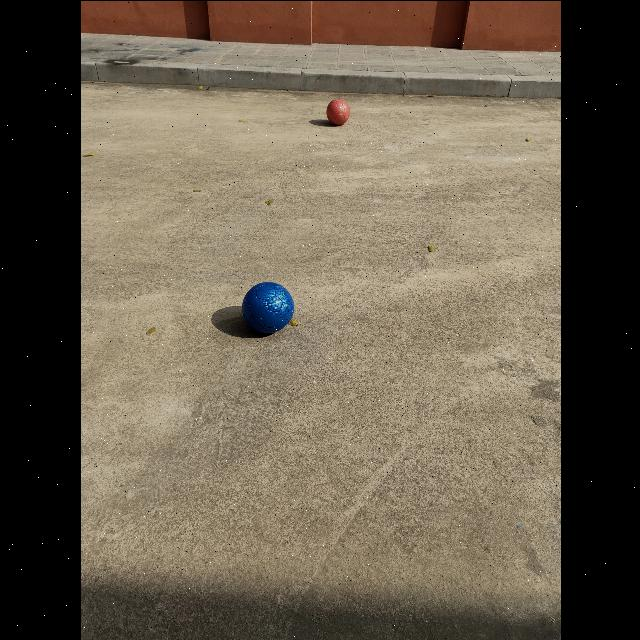B: (241, 281, 292, 332)
R: (325, 98, 349, 124)
